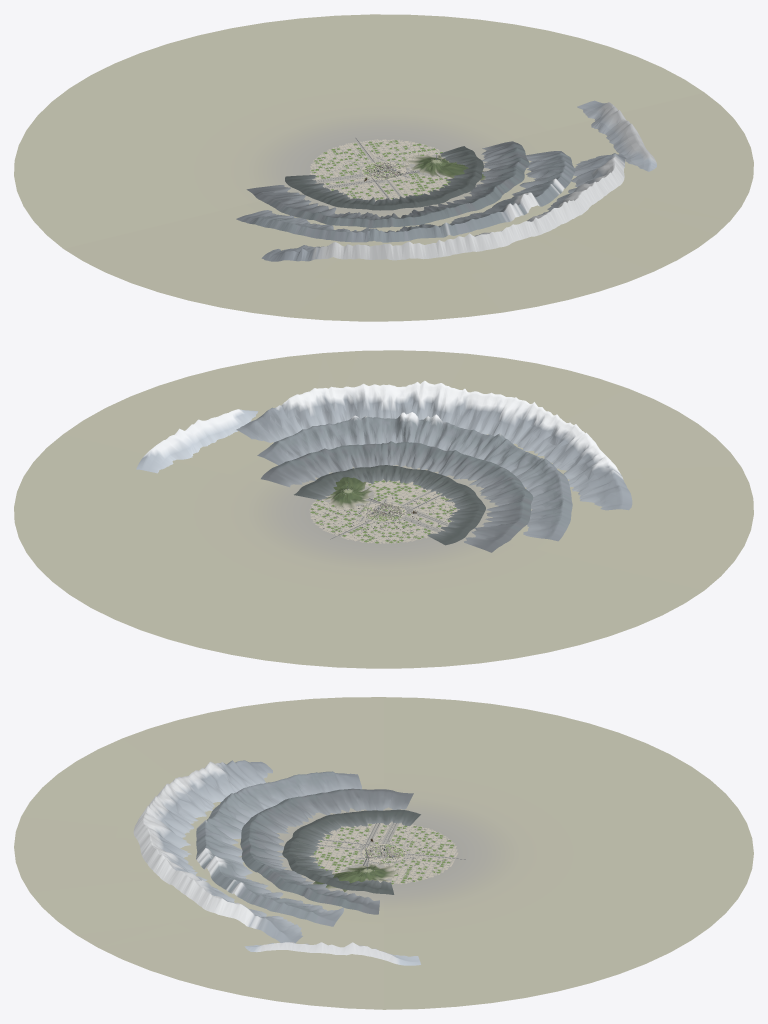
File: dostyk-plaza.glb
The picture shows the model from 3 angles, top to bottom: view 1: azimuth 30°, elevation 25°; view 2: azimuth 150°, elevation 25°; view 3: azimuth 270°, elevation 25°; orthographic projection.
Visible parts, largest first — view 1: Context_Far__ctx.farStreet, Context_Mountains__ctx.mountain, Context_Mountains__ctx.mountainFar, Context_Mountains__ctx.snow, Context_Far__site.ground, Context_Far__site.grassDark, Context_Far__ctx.clayFar, Context_Landmarks__ctx.hill; view 2: Context_Far__ctx.farStreet, Context_Mountains__ctx.mountainFar, Context_Mountains__ctx.mountain, Context_Mountains__ctx.snow, Context_Far__site.ground, Context_Far__site.grassDark, Context_Far__ctx.clayFar, Context_Landmarks__ctx.hill; view 3: Context_Far__ctx.farStreet, Context_Mountains__ctx.mountainFar, Context_Mountains__ctx.mountain, Context_Mountains__ctx.snow, Context_Far__site.ground, Context_Far__site.grassDark, Context_Far__ctx.clayFar, Context_Landmarks__ctx.hill.
Part boxes in pixels (x1,y1,x2,y2): Context_Far__ctx.farStreet: (14,14,753,321); Context_Mountains__ctx.mountain: (246,141,529,227); Context_Mountains__ctx.mountainFar: (236,100,656,261); Context_Mountains__ctx.snow: (313,102,655,260); Context_Far__site.ground: (310,139,452,200); Context_Far__site.grassDark: (311,140,450,199); Context_Far__ctx.clayFar: (311,140,449,199); Context_Landmarks__ctx.hill: (402,154,485,180); Context_Far__ctx.farStreet: (14,350,753,668); Context_Mountains__ctx.mountainFar: (136,394,632,541); Context_Mountains__ctx.mountain: (261,441,533,552); Context_Mountains__ctx.snow: (143,380,622,477); Context_Far__site.ground: (309,480,457,543); Context_Far__site.grassDark: (310,480,456,543); Context_Far__ctx.clayFar: (311,481,455,542); Context_Landmarks__ctx.hill: (323,469,373,509); Context_Far__ctx.farStreet: (14,697,753,1009); Context_Mountains__ctx.mountainFar: (156,760,420,965); Context_Mountains__ctx.mountain: (240,788,420,914); Context_Mountains__ctx.snow: (133,761,397,964); Context_Far__site.ground: (310,822,457,884); Context_Far__site.grassDark: (313,824,454,884); Context_Far__ctx.clayFar: (315,823,456,883); Context_Landmarks__ctx.hill: (313,862,399,892).
Bounding box in the file's own units: 23000 × 1239 × 23000.
